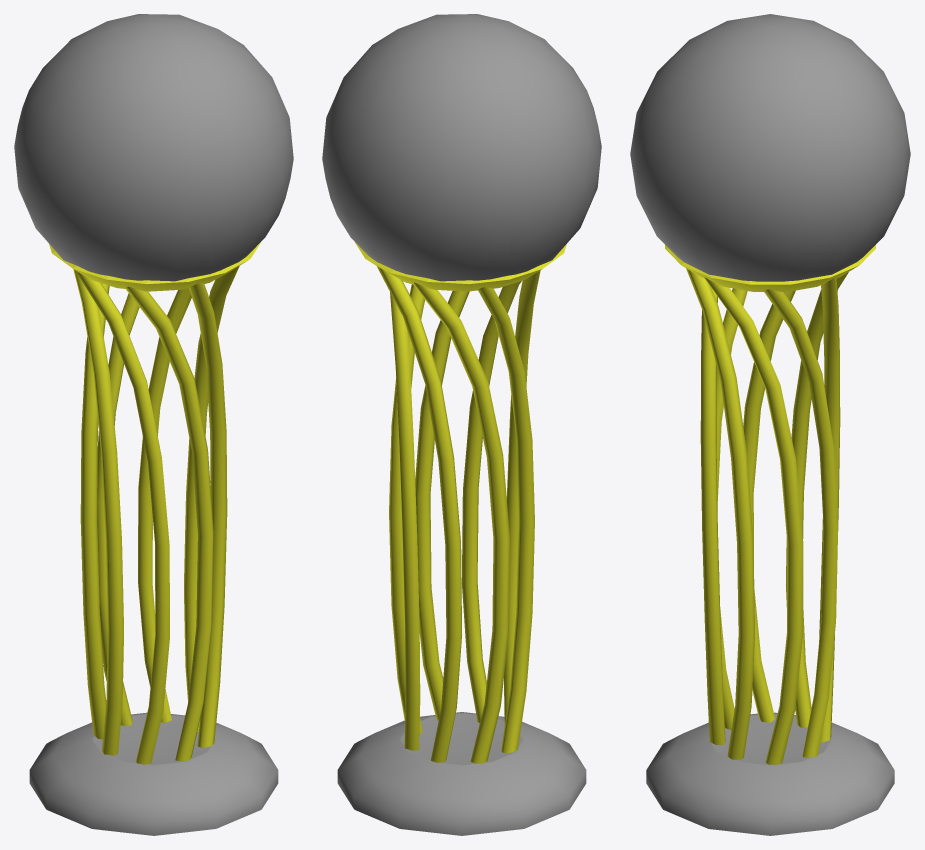
File: copa_Rey_basket.FBX
3 views of the same model, side by side, from view 1: azimuth 30°, elevation 25°; view 2: azimuth 150°, elevation 25°; view 3: azimuth 270°, elevation 25° (orthographic).
Parts seen in each view (by area): view 1: copa_Rey_basket; view 2: copa_Rey_basket; view 3: copa_Rey_basket.
Part boxes in pixels (left/top/right/bottom): copa_Rey_basket: left=14, top=14, right=293, bottom=835; copa_Rey_basket: left=322, top=14, right=601, bottom=835; copa_Rey_basket: left=630, top=14, right=910, bottom=835.
Size of the model in its own units: 55.28 by 164 by 55.28.
